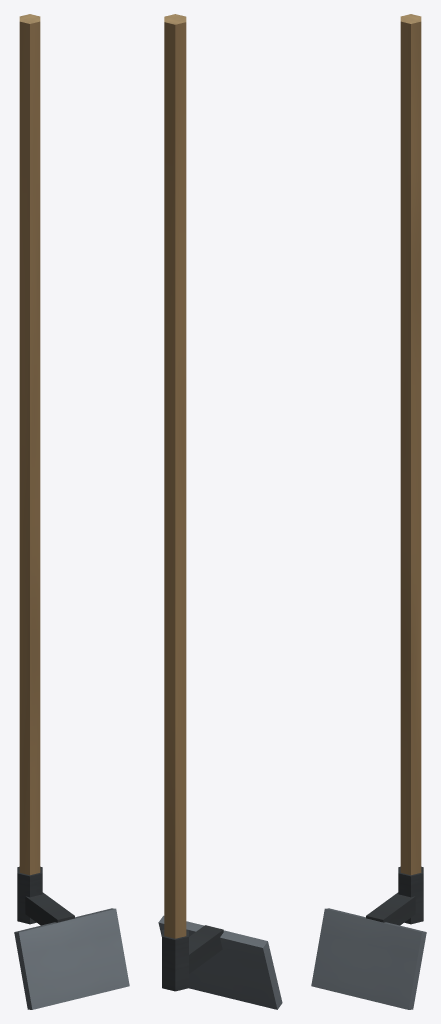
The model's file is hoe.obj.
3 views of the same model, side by side, from view 1: azimuth 30°, elevation 25°; view 2: azimuth 150°, elevation 25°; view 3: azimuth 330°, elevation 25° (orthographic). The views are drawn at different scales.
Visible parts, largest first — view 1: hoe; view 2: hoe; view 3: hoe.
Boxes of the visible parts, x1,y1,x2,y2 form: hoe: (14,14,129,1009); hoe: (158,14,282,1009); hoe: (311,14,426,1009).
Size of the model in its own units: 0.17 by 1.58 by 0.1737.
Materials: 1 (1 with a texture image).
